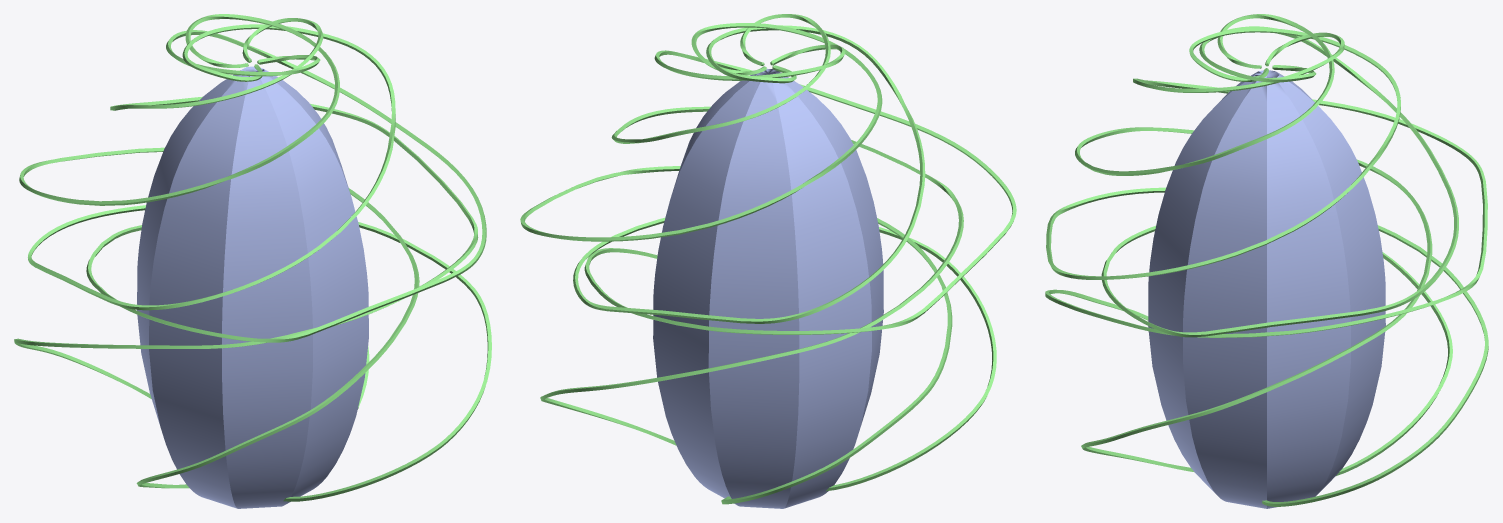
File: WeirdStone.fbx
3 views of the same model, side by side, from view 1: azimuth 30°, elevation 25°; view 2: azimuth 150°, elevation 25°; view 3: azimuth 270°, elevation 25° (orthographic).
Parts seen in each view (by area): view 1: stone; view 2: stone; view 3: stone.
Part boxes in pixels (x1,y1,x2,y2): stone: [14, 14, 491, 508]; stone: [520, 14, 1016, 508]; stone: [1045, 14, 1488, 508].
Size of the model in its own units: 299 by 328 by 299.
